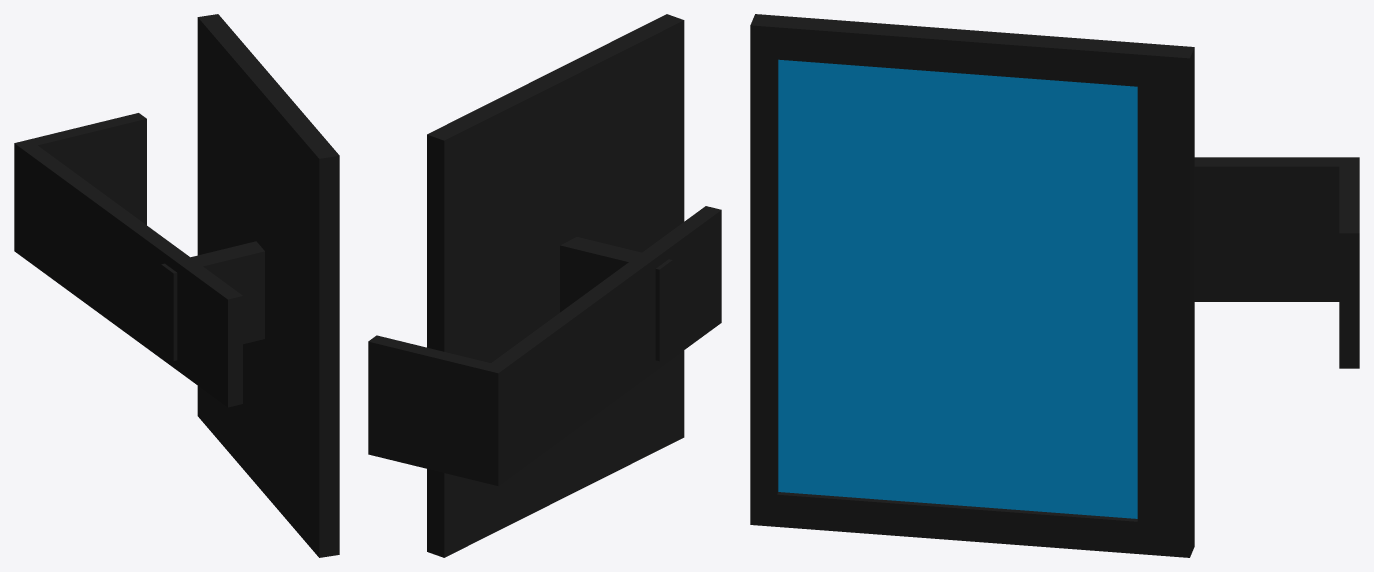
File: Monitor-Audio.glb
The picture shows the model from 3 angles, left to right: view 1: azimuth 30°, elevation 25°; view 2: azimuth 150°, elevation 25°; view 3: azimuth 270°, elevation 25°; orthographic projection. The views are drawn at different scales.
Parts seen in each view (by area): view 1: Google:pCube8; view 2: Google:pCube8; view 3: Google:pCube8.
Boxes of the visible parts, x1,y1,x2,y2 form: Google:pCube8: (14, 14, 339, 557); Google:pCube8: (368, 14, 721, 557); Google:pCube8: (750, 14, 1359, 557).
Bounding box in the file's own units: 53.13 × 145 × 160.
